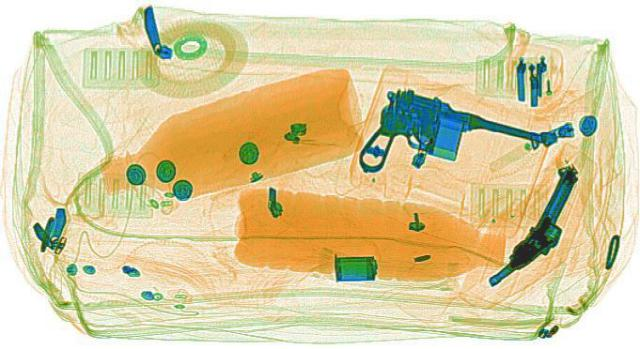Gun: (308, 83, 564, 206), (482, 162, 592, 291)
